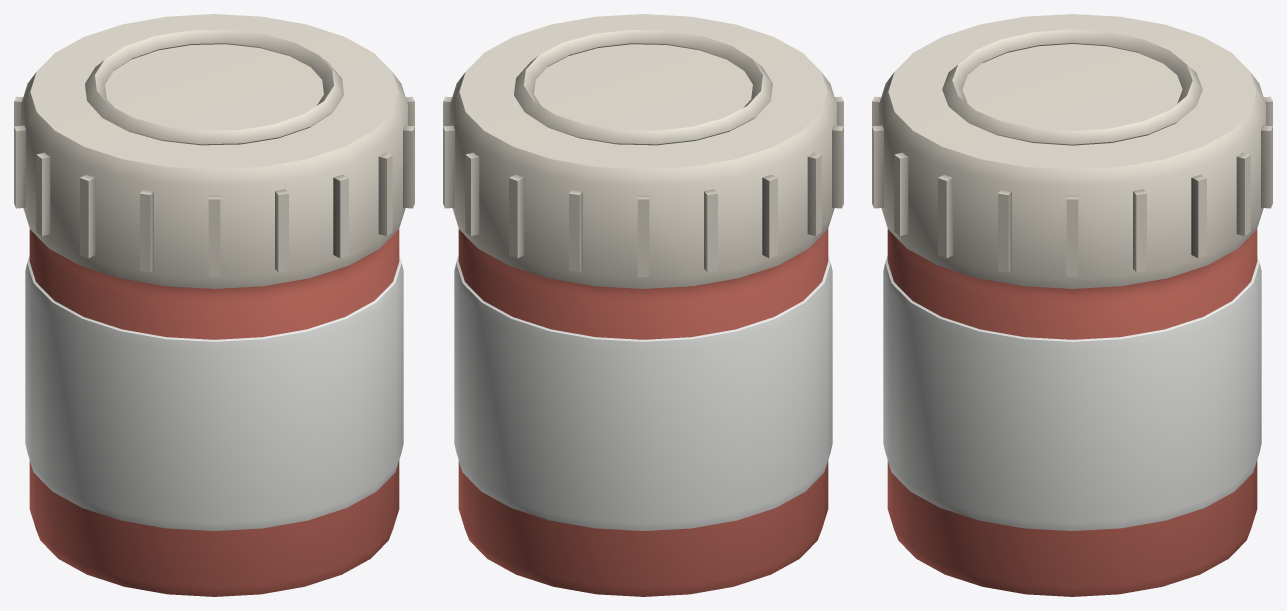
Rendered from med_warm.glb.
The picture shows the model from 3 angles, left to right: view 1: azimuth 30°, elevation 25°; view 2: azimuth 150°, elevation 25°; view 3: azimuth 270°, elevation 25°; orthographic projection.
Visible parts, largest first — view 1: PART; view 2: PART; view 3: PART.
Boxes of the visible parts, box(x1,y1,x2,y2) form: PART: box(14, 14, 414, 596); PART: box(443, 14, 843, 596); PART: box(872, 14, 1272, 596).
Size of the model in its own units: 0.064 by 0.0768 by 0.0633.
